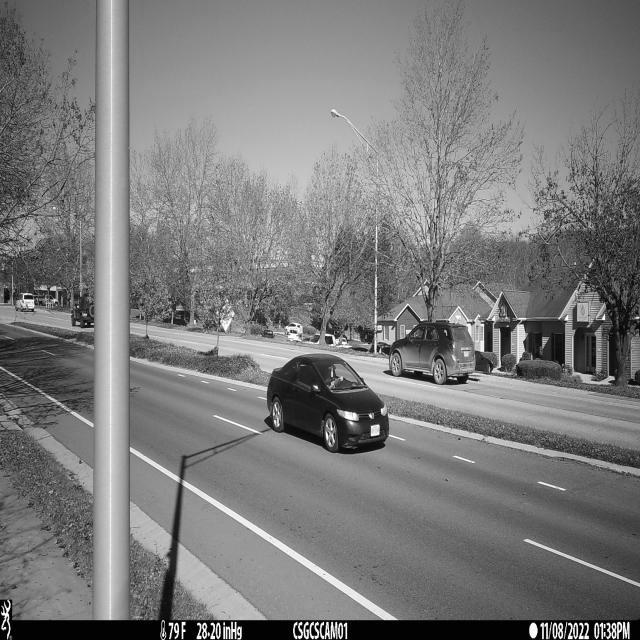Sedan: (267, 353, 390, 454)
